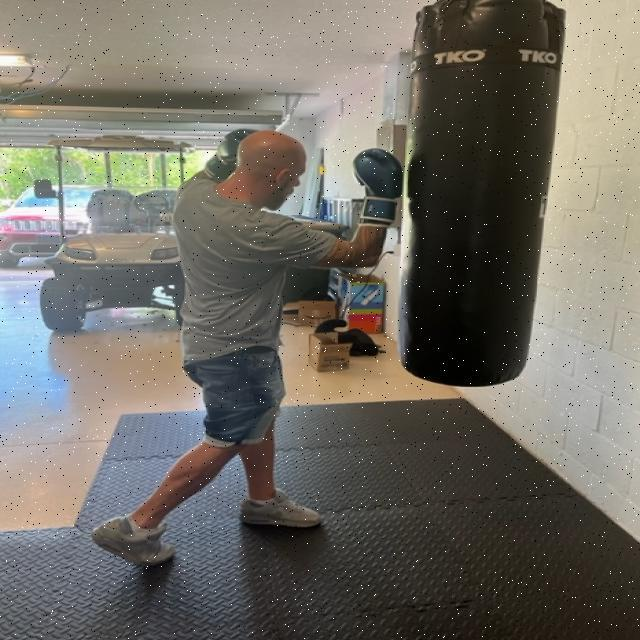uppercut: (166, 113, 414, 289)
